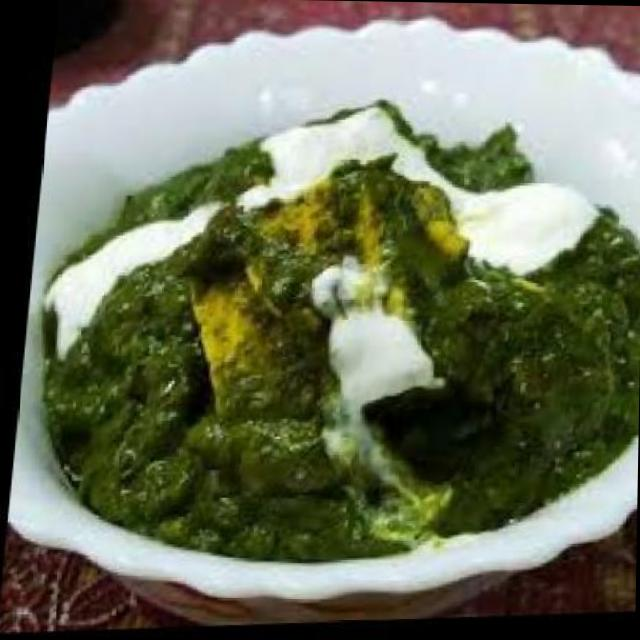palak_paneer: (11, 85, 640, 582)
